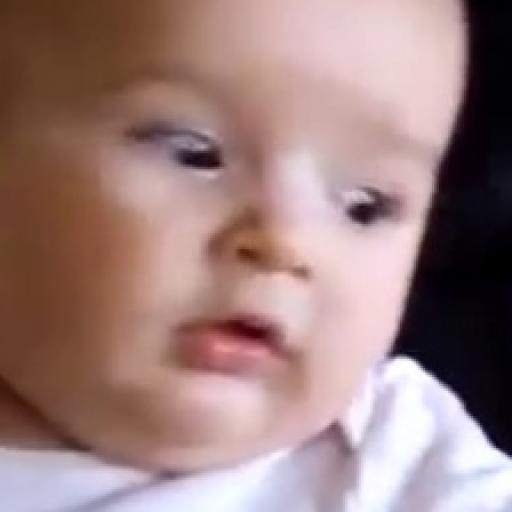Autism: (28, 16, 483, 494)
